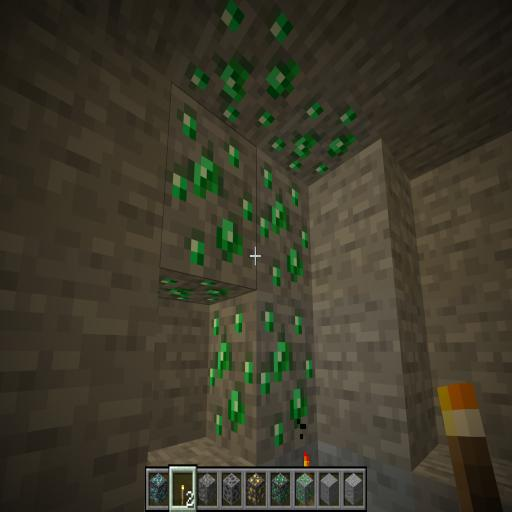emerald ore: (159, 0, 362, 458)
